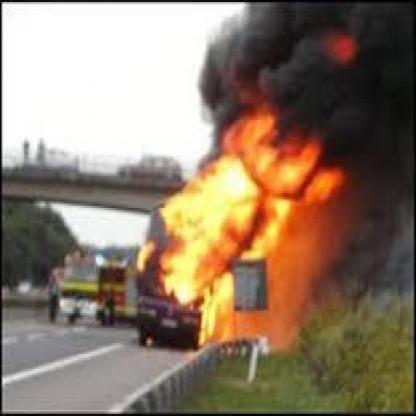fire: (136, 78, 342, 343)
